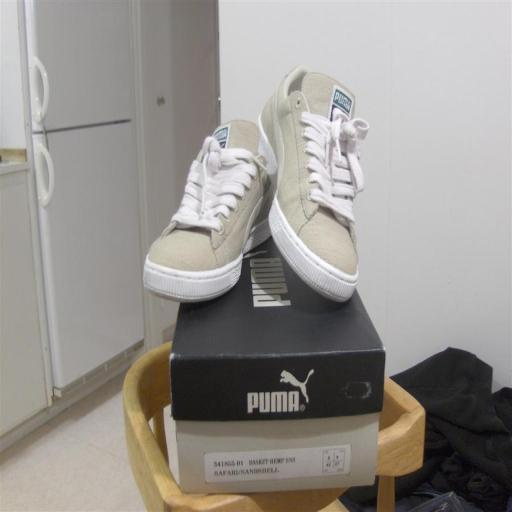shoe: (258, 66, 368, 301), (144, 120, 272, 301)
